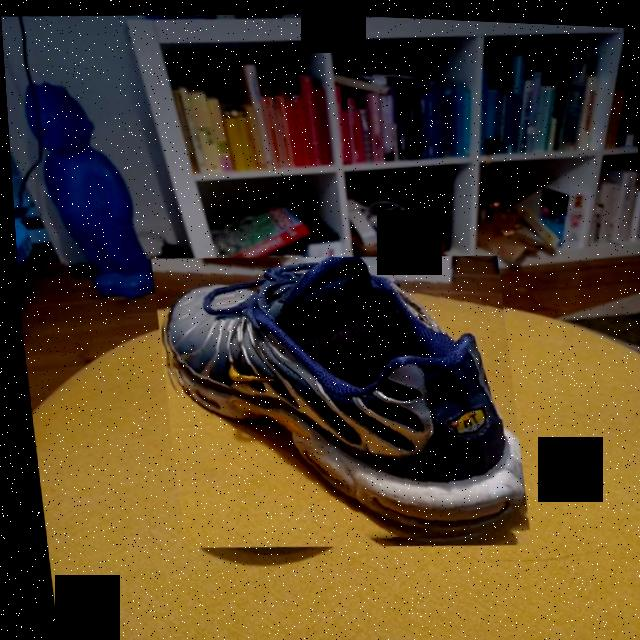shoe: (146, 239, 525, 559)
